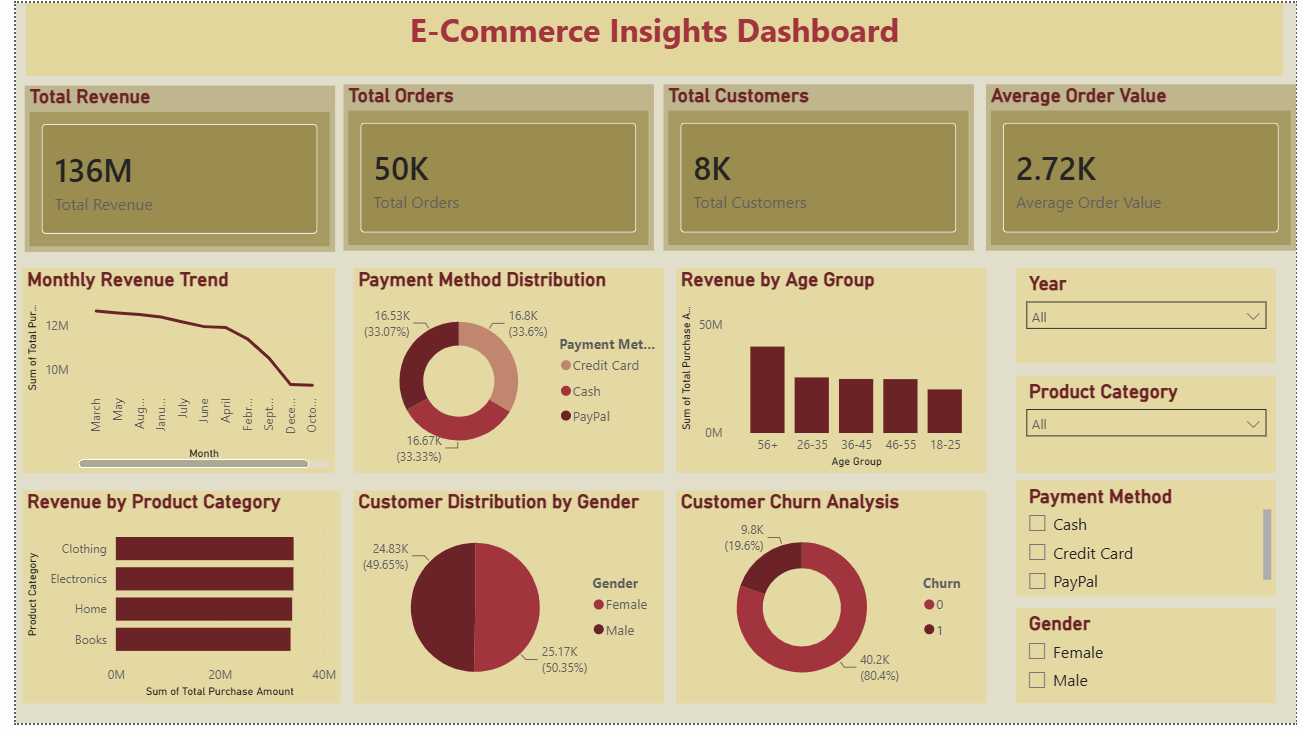

The page's visual inventory and layout, read from the dashboard file:
{"tool":"powerbi","page":{"name":"Page 1","canvas":[1280,720],"ordinal":0},"visuals":[{"type":"textbox","box":[9.6,0,1257,72.7],"z":0},{"type":"cardVisual","title":"Total Customers","fields":{"Data":["Cleaned Data.Total Customers"]},"box":[647.7,81.4,310.5,166.3],"z":1000},{"type":"cardVisual","title":"Total Orders","fields":{"Data":["Cleaned Data.Total Orders"]},"box":[327.9,81.4,310.5,166.3],"z":2000},{"type":"cardVisual","title":"Total Revenue","fields":{"Data":["Cleaned Data.Total Revenue"]},"box":[9.3,82.6,310.5,166.3],"z":3000},{"type":"cardVisual","title":"Average Order Value","fields":{"Data":["Cleaned Data.Average Order Value"]},"box":[969.8,81.4,310.5,166.3],"z":4000},{"type":"lineChart","title":"Monthly Revenue Trend","fields":{"Category":["Cleaned Data.Month"],"Y":["Sum(Cleaned Data.Total Purchase Amount)"]},"box":[6.2,265,312.5,205],"z":4001},{"type":"clusteredBarChart","title":"Revenue by Product Category","fields":{"Category":["Cleaned Data.Product Category"],"Y":["Sum(Cleaned Data.Total Purchase Amount)"]},"box":[6.2,487.5,318.8,212.5],"z":4002},{"type":"donutChart","title":"Payment Method Distribution","fields":{"Category":["Cleaned Data.Payment Method"],"Y":["CountNonNull(Cleaned Data.Customer ID)"]},"box":[337.5,265,310,205],"z":4003},{"type":"pieChart","title":"Customer Distribution by Gender","fields":{"Y":["CountNonNull(Cleaned Data.Customer ID)"],"Category":["Cleaned Data.Gender"]},"box":[337.5,487.5,310,212.5],"z":4004},{"type":"clusteredColumnChart","title":"Revenue by Age Group","fields":{"Category":["Cleaned Data.Age Group"],"Y":["Sum(Cleaned Data.Total Purchase Amount)"]},"box":[660,265,310,205],"z":4005},{"type":"donutChart","title":"Customer Churn Analysis","fields":{"Category":["Cleaned Data.Churn"],"Y":["CountNonNull(Cleaned Data.Customer ID)"]},"box":[660,487.5,310,212.5],"z":4006},{"type":"slicer","fields":{"Values":["Cleaned Data.Year"]},"box":[1000,265,260,95],"z":4007},{"type":"slicer","fields":{"Values":["Cleaned Data.Product Category"]},"box":[1000,372.5,260,97.5],"z":4008},{"type":"slicer","fields":{"Values":["Cleaned Data.Payment Method"]},"box":[1000,477.5,260,116.2],"z":4009},{"type":"slicer","fields":{"Values":["Cleaned Data.Gender"]},"box":[1000,605,260,95],"z":4010}]}

Visuals, with their boxes in screenshot pixels (x1, y1, x2, y2), scaled from the page's 1280x720 canvas onto the 1302x732 screenshot:
textbox: l=10, t=0, r=1288, b=74
"Total Customers" cardVisual: l=659, t=83, r=975, b=252
"Total Orders" cardVisual: l=334, t=83, r=649, b=252
"Total Revenue" cardVisual: l=9, t=84, r=325, b=253
"Average Order Value" cardVisual: l=986, t=83, r=1301, b=252
"Monthly Revenue Trend" lineChart: l=6, t=269, r=324, b=478
"Revenue by Product Category" clusteredBarChart: l=6, t=496, r=331, b=712
"Payment Method Distribution" donutChart: l=343, t=269, r=659, b=478
"Customer Distribution by Gender" pieChart: l=343, t=496, r=659, b=712
"Revenue by Age Group" clusteredColumnChart: l=671, t=269, r=987, b=478
"Customer Churn Analysis" donutChart: l=671, t=496, r=987, b=712
slicer - Cleaned Data.Year: l=1017, t=269, r=1282, b=366
slicer - Cleaned Data.Product Category: l=1017, t=379, r=1282, b=478
slicer - Cleaned Data.Payment Method: l=1017, t=485, r=1282, b=604
slicer - Cleaned Data.Gender: l=1017, t=615, r=1282, b=712
